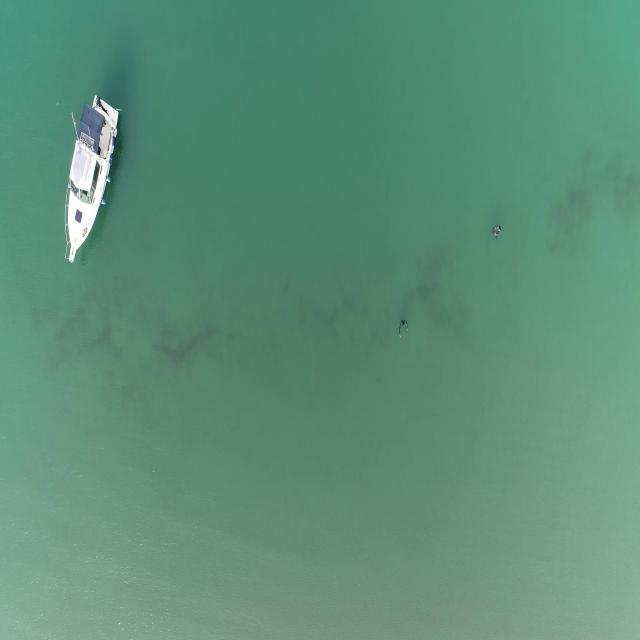boat: (60, 93, 120, 268)
person: (490, 222, 502, 248), (398, 317, 411, 340)
